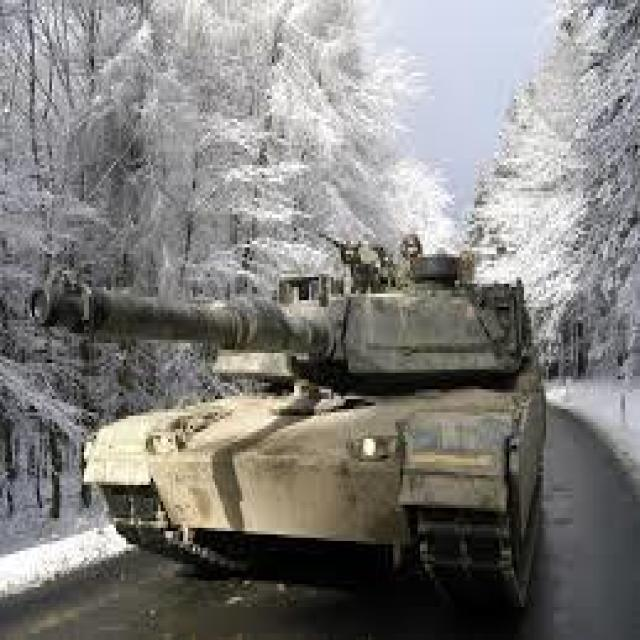Tanks: (23, 241, 555, 600)
